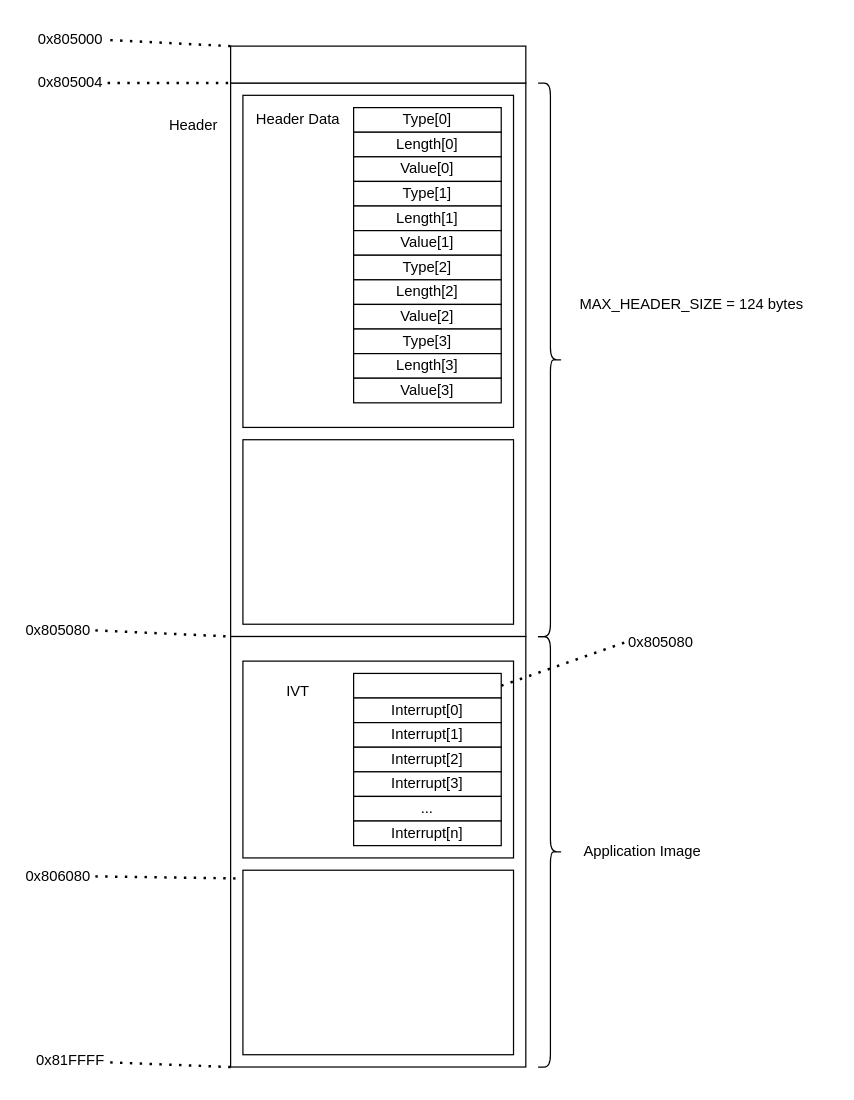
Image size: 854x1100. Some labels were removed from this diagram. Each missing label, with the centre of its shape:
Code: pixel 378 962
CRC32 of the header: pixel 377 64
Extra unused header space - padded with 0: pixel 378 531
Reset: pixel 426 685
